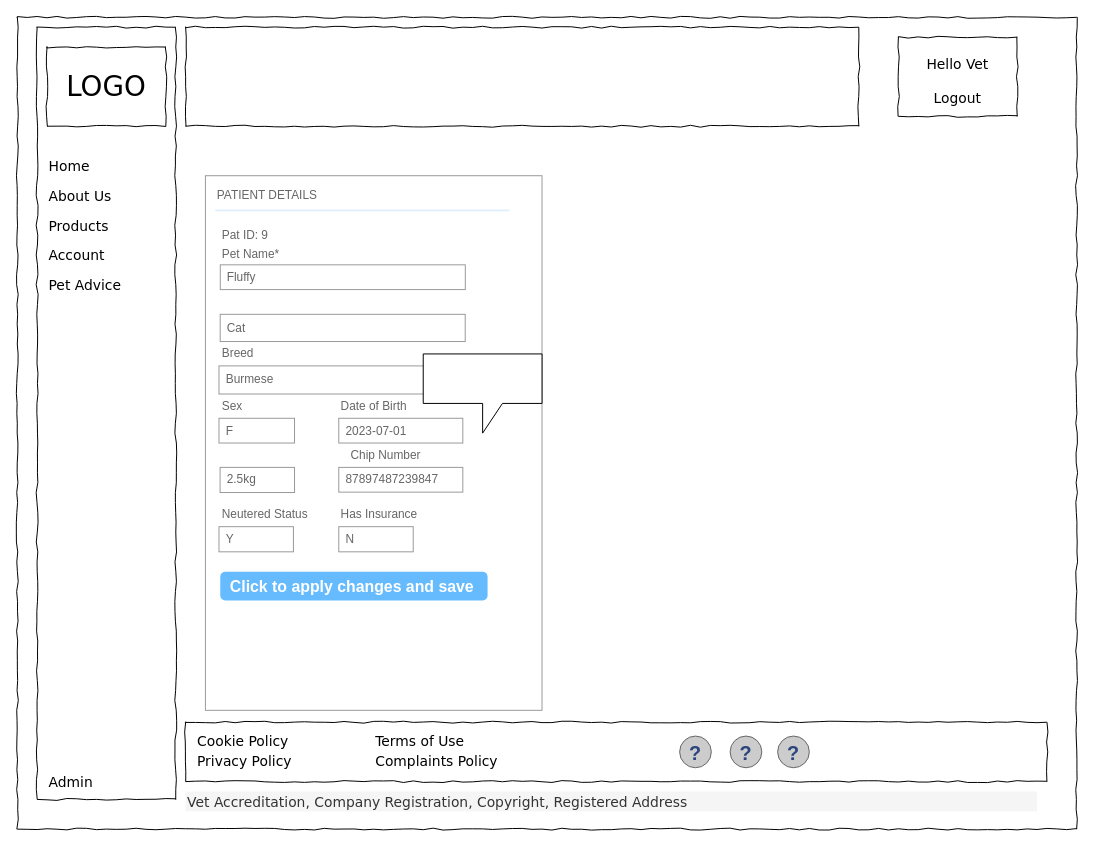
Image size: 1094x846. Some labels were removed from this diagram. The shapes that lost their labels are listed below. From the top down, each one's box as (x1, y1, x2, y2) in pixels, then its label:
(185, 26, 859, 126): Vet Clinic Name
(219, 284, 408, 320): Species*
(422, 353, 542, 433): conversions for weight, and two boolean items
(218, 442, 382, 467): Weight
